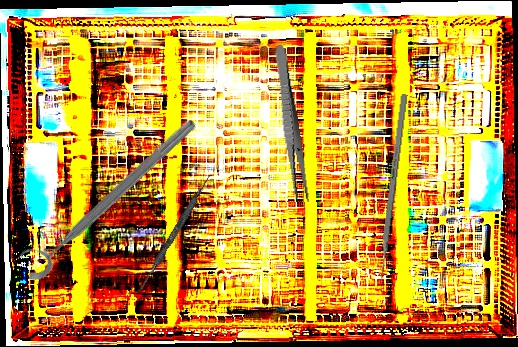Dressing Forceps: (270, 44, 311, 204)
Fixation Ring: (10, 104, 202, 287)
Pusher: (376, 93, 408, 294)
Spatula Surgical: (136, 172, 212, 296)
